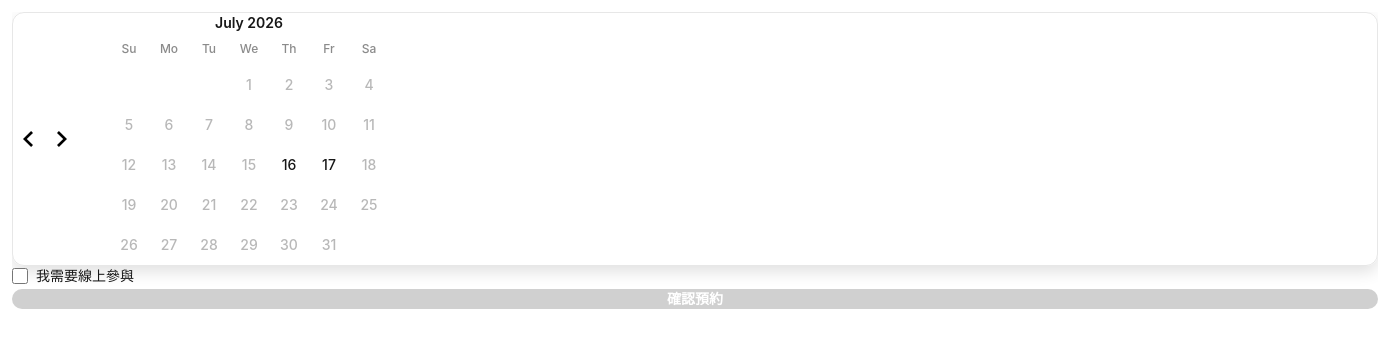
Test: BookingForm › enables the confirm button after selecting a date and a slot
Click the button "16" at (289, 165), box [269,145,309,185]
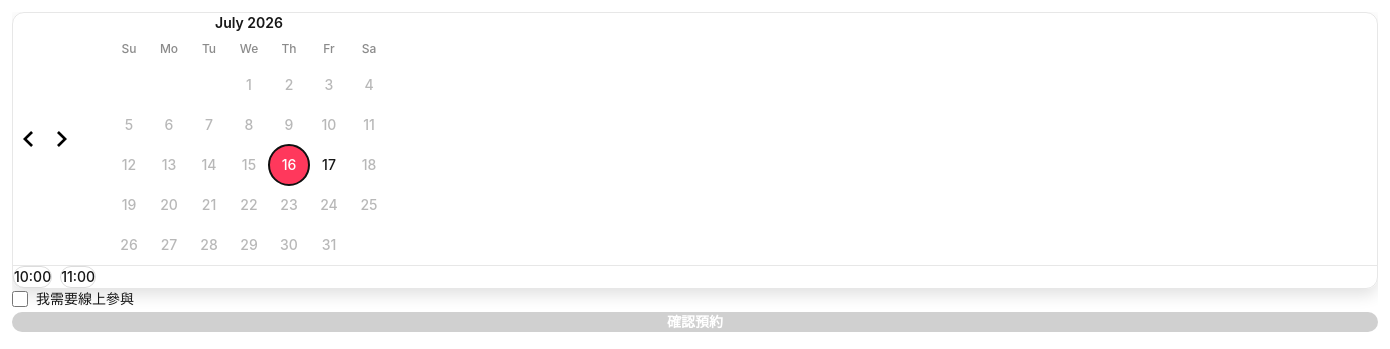
Click the button "10:00" at (33, 277), box [13,266,52,288]
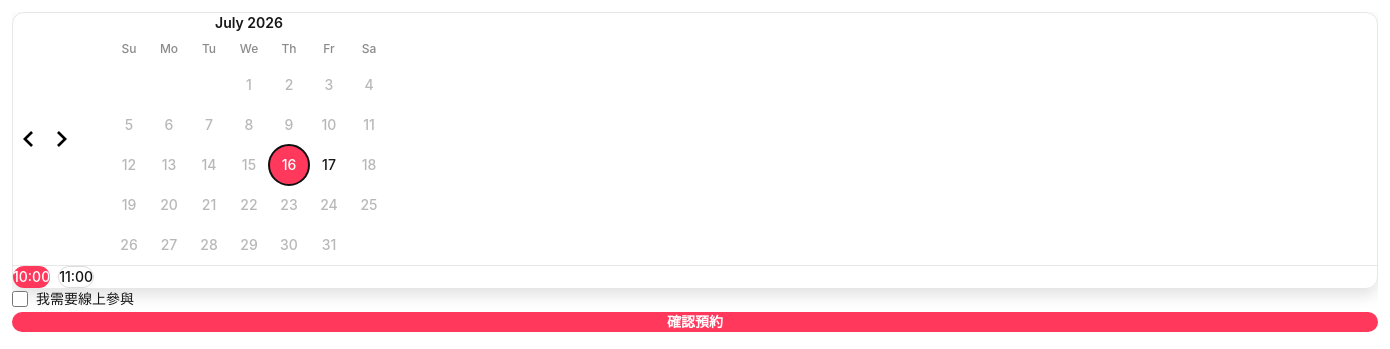
Check: the button "確認預約" is enabled, box [12,312,1378,332]
